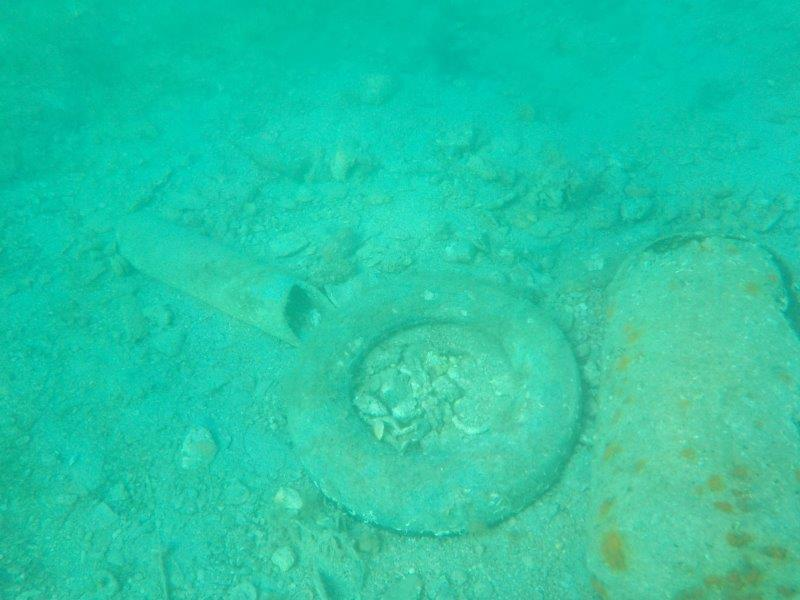bottle: (223, 126, 315, 186)
tire: (286, 266, 591, 542)
